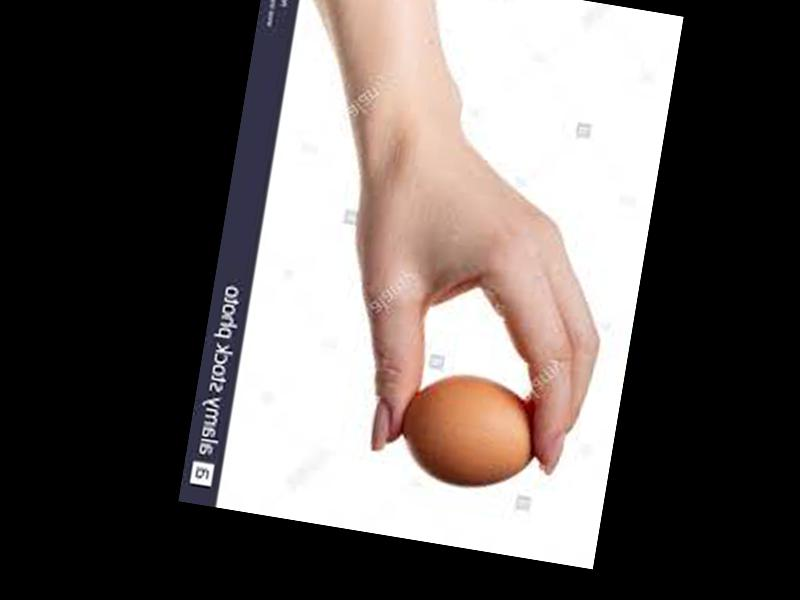Eggs: (397, 364, 545, 495)
